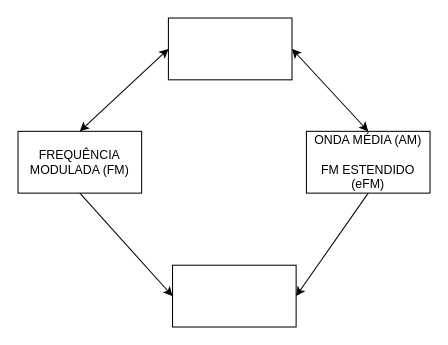
Image size: 448x345. Some labels were removed from this diagram. Each missing label, with the centre of its shape:
"ANTENA" goes at (233,295).
"RÁDIO" goes at (229,48).
